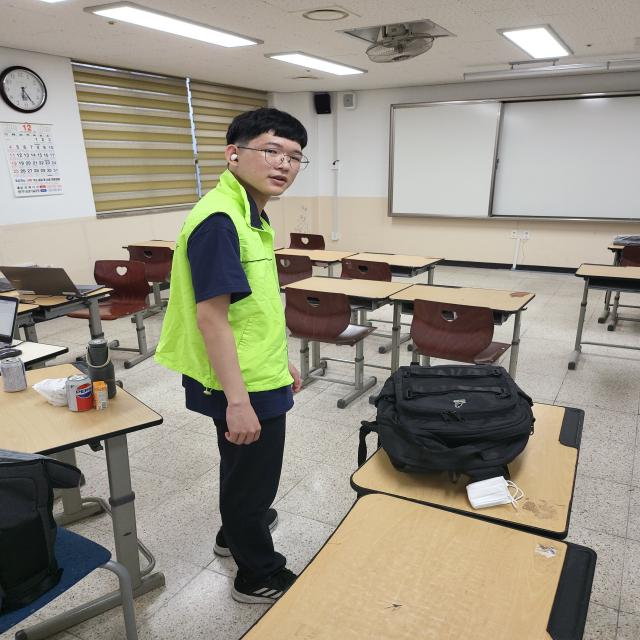weston_spy: (140, 158, 323, 412)
